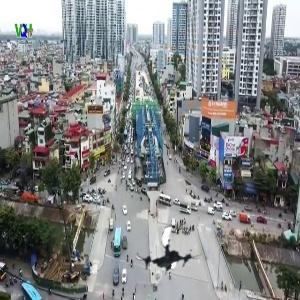drone: (138, 223, 202, 287)
